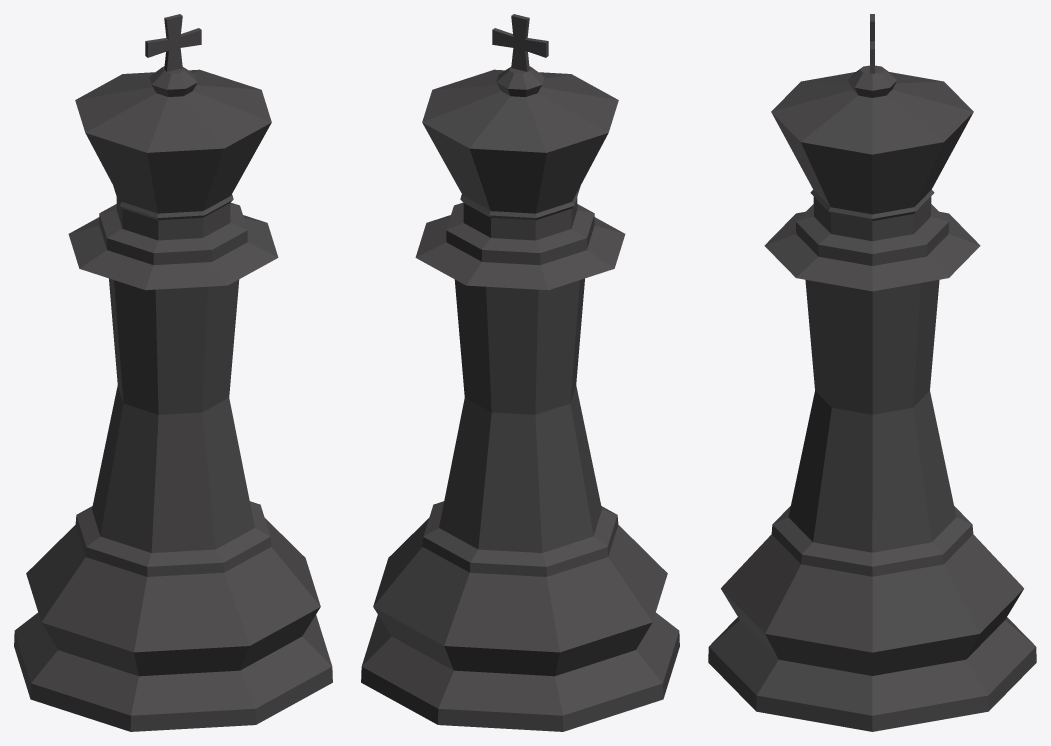
Rendered from Chess_Black_King.fbx.
3 views of the same model, side by side, from view 1: azimuth 30°, elevation 25°; view 2: azimuth 150°, elevation 25°; view 3: azimuth 270°, elevation 25° (orthographic).
Parts seen in each view (by area): view 1: Chess_Black_King; view 2: Chess_Black_King; view 3: Chess_Black_King.
Part boxes in pixels (bbox=[...]): Chess_Black_King: bbox=[14, 14, 332, 731]; Chess_Black_King: bbox=[361, 14, 679, 731]; Chess_Black_King: bbox=[708, 14, 1036, 731].
Bounding box in the file's own units: 4.23 × 4.23 × 9.15.
